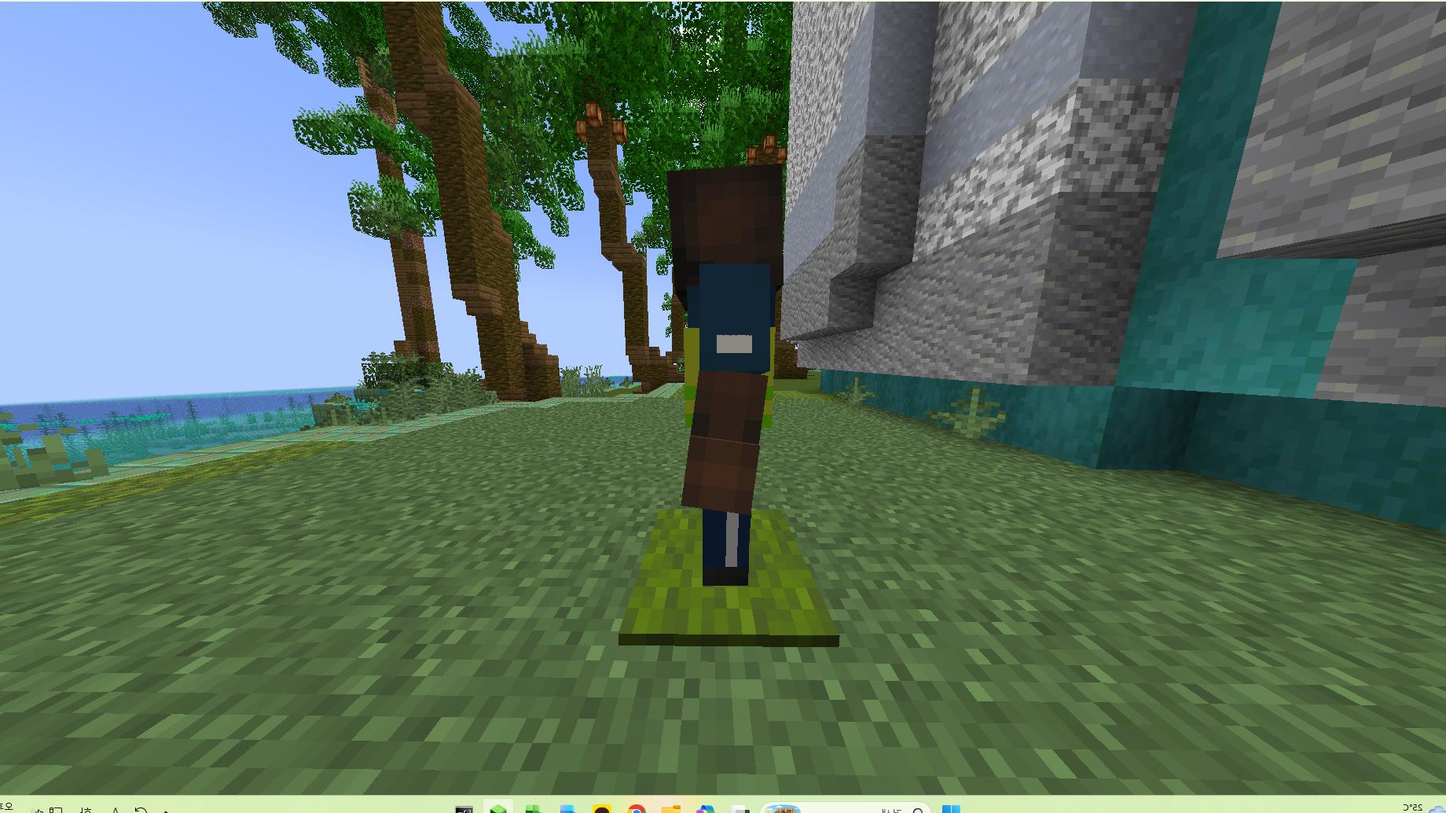Guardian: (668, 165, 784, 586)
